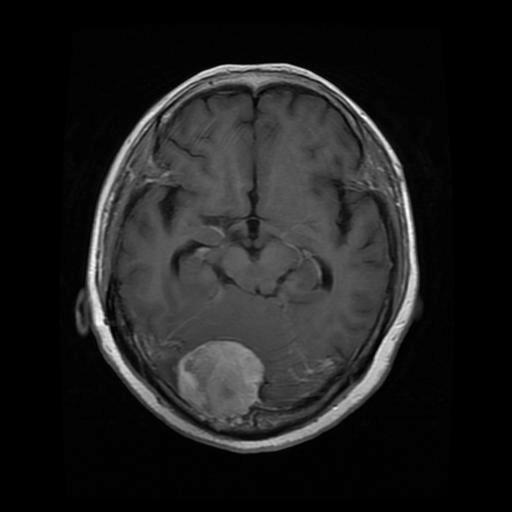Tumour-Meningioma: (159, 320, 290, 449)
